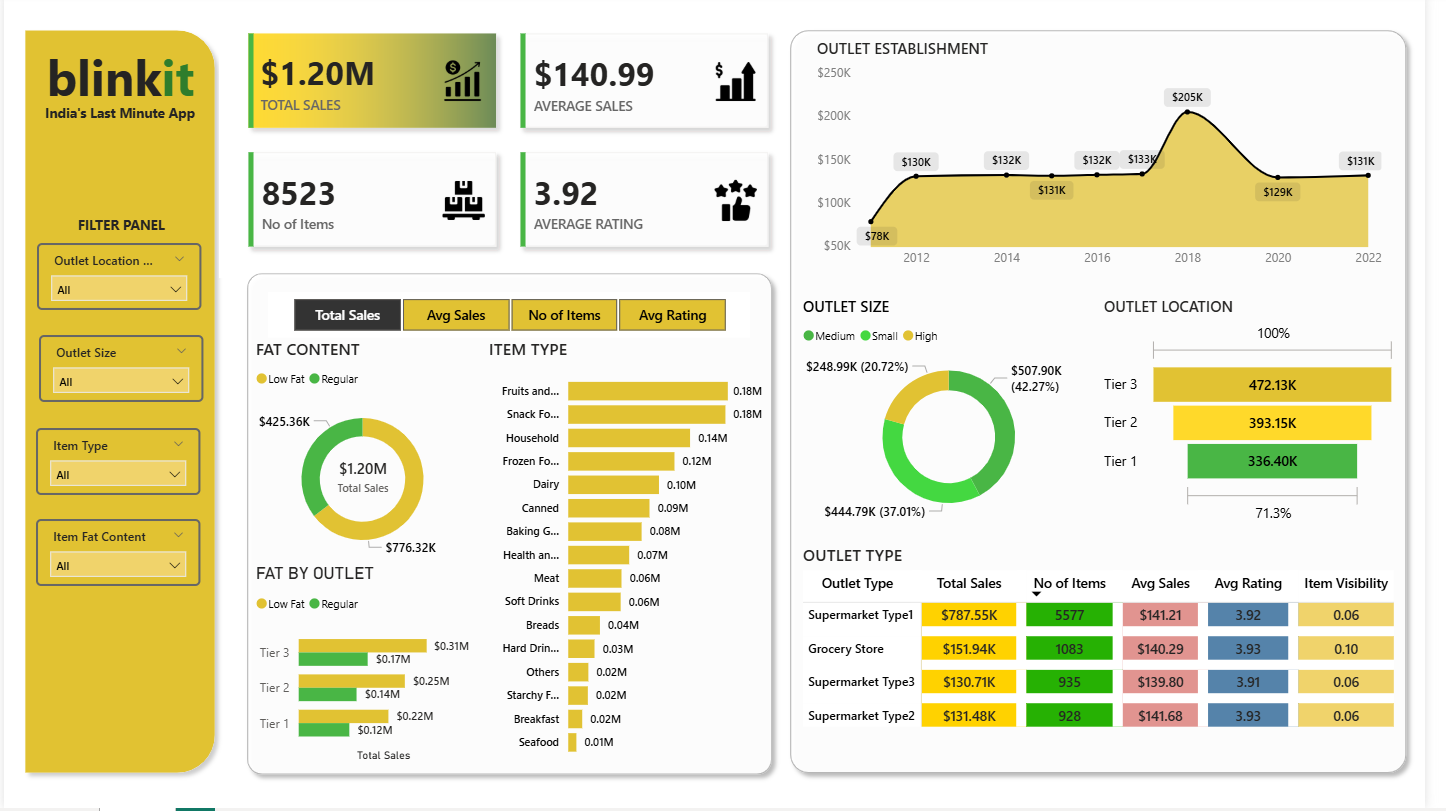

The dashboard page shown, as its layout file describes it:
{"tool":"powerbi","page":{"name":"Page 1","canvas":[1400,800],"ordinal":0},"visuals":[{"type":"shape","box":[11.8,24.6,204.9,749.8],"z":0},{"type":"textbox","box":[11.8,41.4,205.9,73.9],"z":1000},{"type":"textbox","box":[34.5,101.5,159.6,27.6],"z":2000},{"type":"cardVisual","fields":{"Data":["BlinkIT Grocery Data.Total Sales","BlinkIT Grocery Data.Avg Sales","BlinkIT Grocery Data.No of Items","BlinkIT Grocery Data.Avg Rating"]},"box":[211.8,7.9,570.4,270],"z":3000},{"type":"shape","box":[230.5,264,535,512],"z":4000},{"type":"donutChart","title":"FAT CONTENT","fields":{"Y":["BlinkIT Grocery Data.Total Sales"],"Category":["BlinkIT Grocery Data.Item Fat Content"]},"box":[243.3,336.9,219.7,229.6],"z":5000},{"type":"slicer","fields":{"Values":["Metrics.Metrics"]},"box":[260.1,291.6,475,45],"z":6000},{"type":"cardVisual","fields":{"Data":["BlinkIT Grocery Data.Total Sales"]},"box":[287.7,432.5,132,81.8],"z":7000},{"type":"clusteredBarChart","title":"FAT BY OUTLET","fields":{"Y":["BlinkIT Grocery Data.Total Sales"],"Category":["BlinkIT Grocery Data.Outlet Location Type"],"Series":["BlinkIT Grocery Data.Item Fat Content"]},"box":[243.3,558.6,219.7,200],"z":8000},{"type":"barChart","title":"ITEM TYPE","fields":{"Category":["BlinkIT Grocery Data.Item Type"],"Y":["Sum(BlinkIT Grocery Data.Sales)"]},"box":[473,337,279,422],"z":9000},{"type":"shape","box":[766,25,625,750],"z":10000},{"type":"lineChart","title":"OUTLET ESTABLISHMENT","fields":{"Y":["BlinkIT Grocery Data.Total Sales"],"Category":["BlinkIT Grocery Data.Outlet Establishment Year"]},"box":[796,41,566,235],"z":11000},{"type":"donutChart","title":"OUTLET SIZE","fields":{"Y":["BlinkIT Grocery Data.Total Sales"],"Category":["BlinkIT Grocery Data.Outlet Size"]},"box":[782,296,297,230],"z":12000},{"type":"funnel","title":"OUTLET LOCATION","fields":{"Category":["BlinkIT Grocery Data.Outlet Location Type"],"Y":["Sum(BlinkIT Grocery Data.Sales)"]},"box":[1079,296,298,230],"z":13000},{"type":"pivotTable","title":"OUTLET TYPE","fields":{"Rows":["BlinkIT Grocery Data.Outlet Type"],"Values":["BlinkIT Grocery Data.Total Sales","BlinkIT Grocery Data.No of Items","BlinkIT Grocery Data.Avg Sales","BlinkIT Grocery Data.Avg Rating","Avg(BlinkIT Grocery Data.Item Visibility)"]},"box":[782,540,595,198],"z":14000},{"type":"slicer","fields":{"Values":["BlinkIT Grocery Data.Outlet Location Type"]},"box":[33,243,162,66],"z":15000},{"type":"slicer","fields":{"Values":["BlinkIT Grocery Data.Outlet Size"]},"box":[34,334,162,66],"z":16000},{"type":"slicer","fields":{"Values":["BlinkIT Grocery Data.Item Type"]},"box":[32,426,162,66],"z":17000},{"type":"slicer","fields":{"Values":["BlinkIT Grocery Data.Item Fat Content"]},"box":[32,515,162,66],"z":18000},{"type":"textbox","box":[35,212,160,28],"z":19000}]}

Visuals, with their boxes in screenshot pixels (x1, y1, x2, y2), scaled from the page's 1400x800 canvas onto the 1446x811 screenshot:
shape: 12:25:224:785
textbox: 12:42:225:117
textbox: 36:103:200:131
cardVisual - BlinkIT Grocery Data.Total Sales x BlinkIT Grocery Data.Avg Sales: 219:8:808:282
shape: 238:268:791:787
"FAT CONTENT" donutChart: 251:342:478:574
slicer - Metrics.Metrics: 269:296:759:341
cardVisual - BlinkIT Grocery Data.Total Sales: 297:438:433:521
"FAT BY OUTLET" clusteredBarChart: 251:566:478:769
"ITEM TYPE" barChart: 489:342:777:769
shape: 791:25:1437:786
"OUTLET ESTABLISHMENT" lineChart: 822:42:1407:280
"OUTLET SIZE" donutChart: 808:300:1114:533
"OUTLET LOCATION" funnel: 1114:300:1422:533
"OUTLET TYPE" pivotTable: 808:547:1422:748
slicer - BlinkIT Grocery Data.Outlet Location Type: 34:246:201:313
slicer - BlinkIT Grocery Data.Outlet Size: 35:339:202:406
slicer - BlinkIT Grocery Data.Item Type: 33:432:200:499
slicer - BlinkIT Grocery Data.Item Fat Content: 33:522:200:589
textbox: 36:215:201:243
